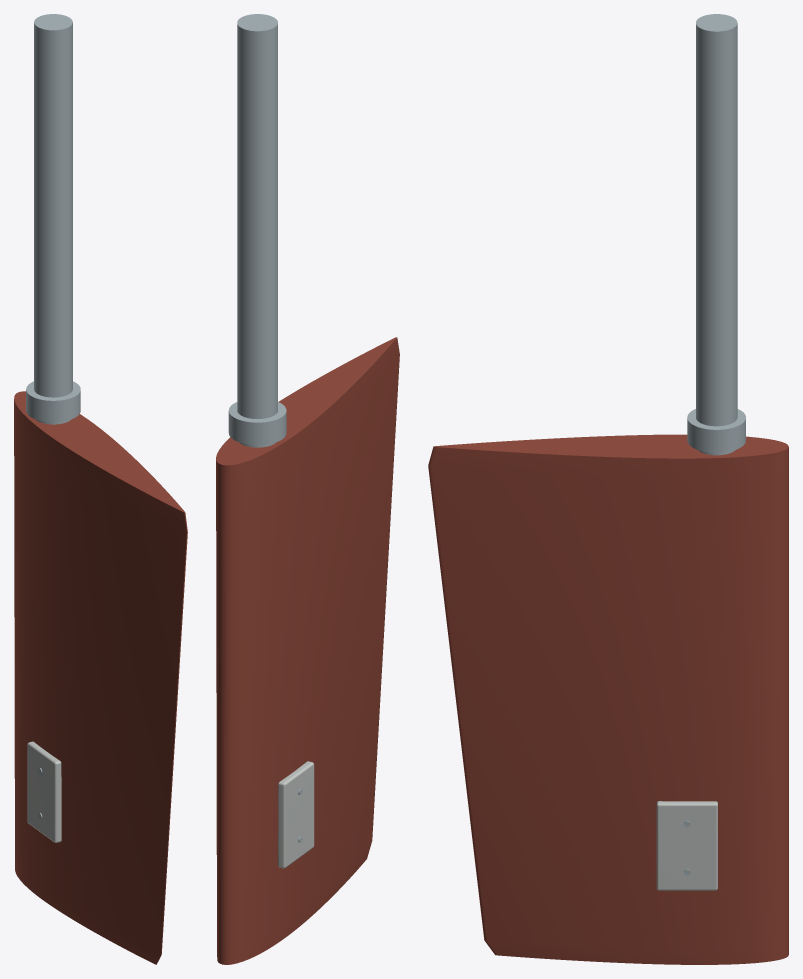
Rendered from rudder_2100.glb.
3 renders of one model, left to right at view 1: azimuth 30°, elevation 25°; view 2: azimuth 150°, elevation 25°; view 3: azimuth 270°, elevation 25°, orthographic. The views are drawn at different scales.
Visible parts, largest first — view 1: Tapered balanced spade, Rudder stock, Sacrificial anode, Stock shoulder; view 2: Tapered balanced spade, Rudder stock, Sacrificial anode, Stock shoulder; view 3: Tapered balanced spade, Rudder stock, Sacrificial anode.001, Stock shoulder.
Boxes of the visible parts, x1,y1,x2,y2 form: Tapered balanced spade: [14, 391, 187, 964]; Rudder stock: [34, 14, 72, 424]; Sacrificial anode: [27, 741, 61, 842]; Stock shoulder: [26, 381, 80, 422]; Tapered balanced spade: [216, 337, 399, 964]; Rudder stock: [237, 14, 277, 447]; Sacrificial anode: [278, 761, 314, 868]; Stock shoulder: [228, 402, 286, 445]; Tapered balanced spade: [428, 434, 788, 964]; Rudder stock: [696, 14, 737, 455]; Sacrificial anode.001: [656, 801, 717, 890]; Stock shoulder: [687, 409, 745, 452].
Size of the model in its own units: 0.2541 by 3.85 by 1.35.
